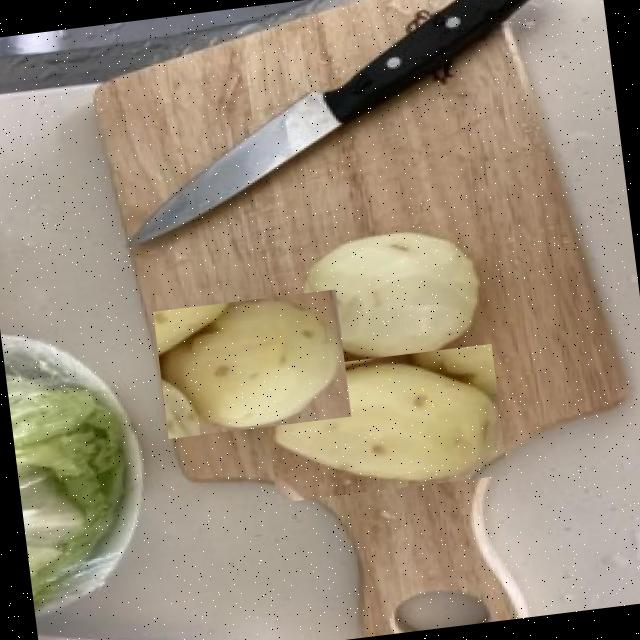Potato: (260, 343, 506, 502), (288, 223, 488, 376), (152, 290, 350, 438)
